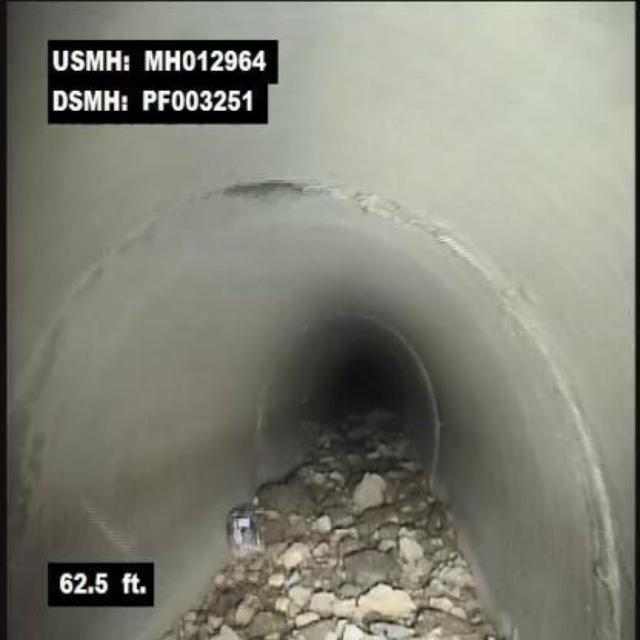Obstacle: (331, 466, 540, 638), (163, 429, 328, 638)
